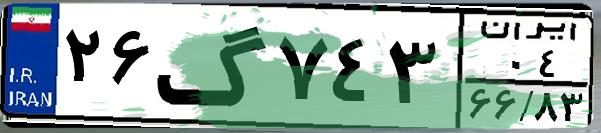0: (508, 27, 537, 80)
2: (57, 26, 110, 100)
3: (385, 28, 445, 110), (560, 70, 590, 125)
4: (330, 28, 385, 110), (537, 27, 568, 80)
6: (110, 28, 156, 98), (470, 70, 495, 125), (495, 70, 520, 125)
7: (270, 28, 330, 110)
8: (535, 70, 560, 125)
گ: (156, 12, 270, 120)
